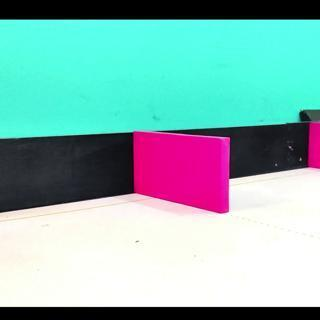xparking: (140, 141, 228, 204), (312, 126, 319, 169)
